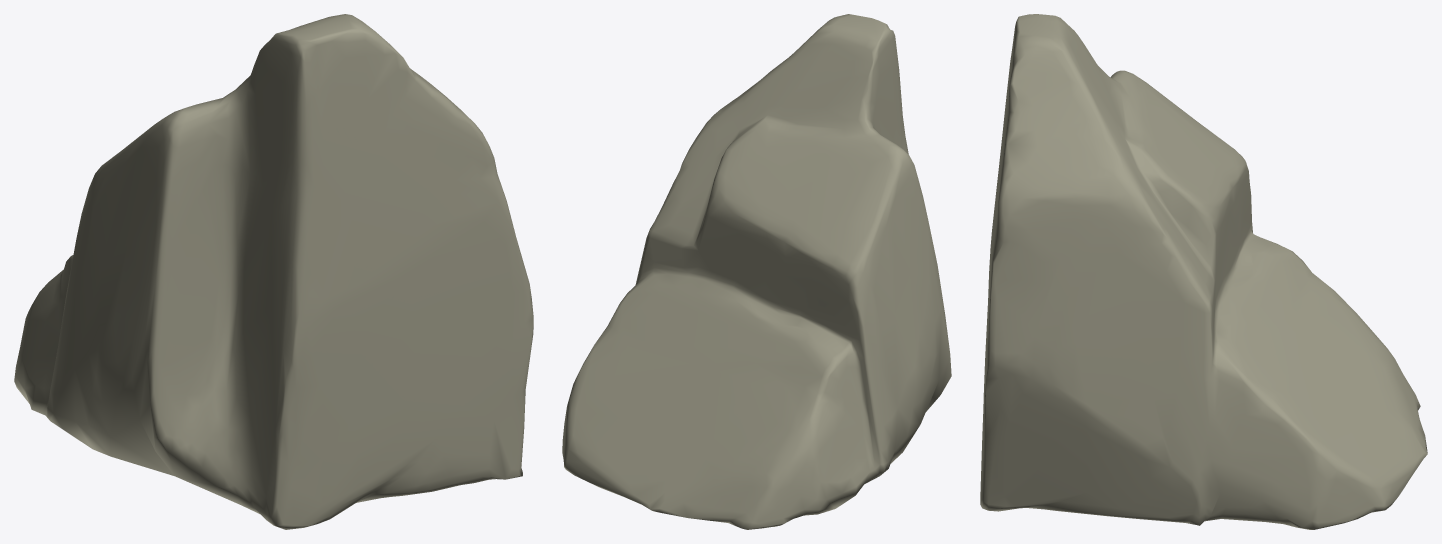
3 views of the same model, side by side, from view 1: azimuth 30°, elevation 25°; view 2: azimuth 150°, elevation 25°; view 3: azimuth 270°, elevation 25° (orthographic). The views are drawn at different scales.
Parts seen in each view (by area): view 1: SM_Cliff_Bottom_Rock_03_LOD0; view 2: SM_Cliff_Bottom_Rock_03_LOD0; view 3: SM_Cliff_Bottom_Rock_03_LOD0.
Part boxes in pixels (x1,y1,x2,y2): SM_Cliff_Bottom_Rock_03_LOD0: (14, 14, 533, 529); SM_Cliff_Bottom_Rock_03_LOD0: (562, 14, 951, 529); SM_Cliff_Bottom_Rock_03_LOD0: (980, 14, 1427, 529).
Bounding box in the file's own units: 2.14 × 2.57 × 2.52.
